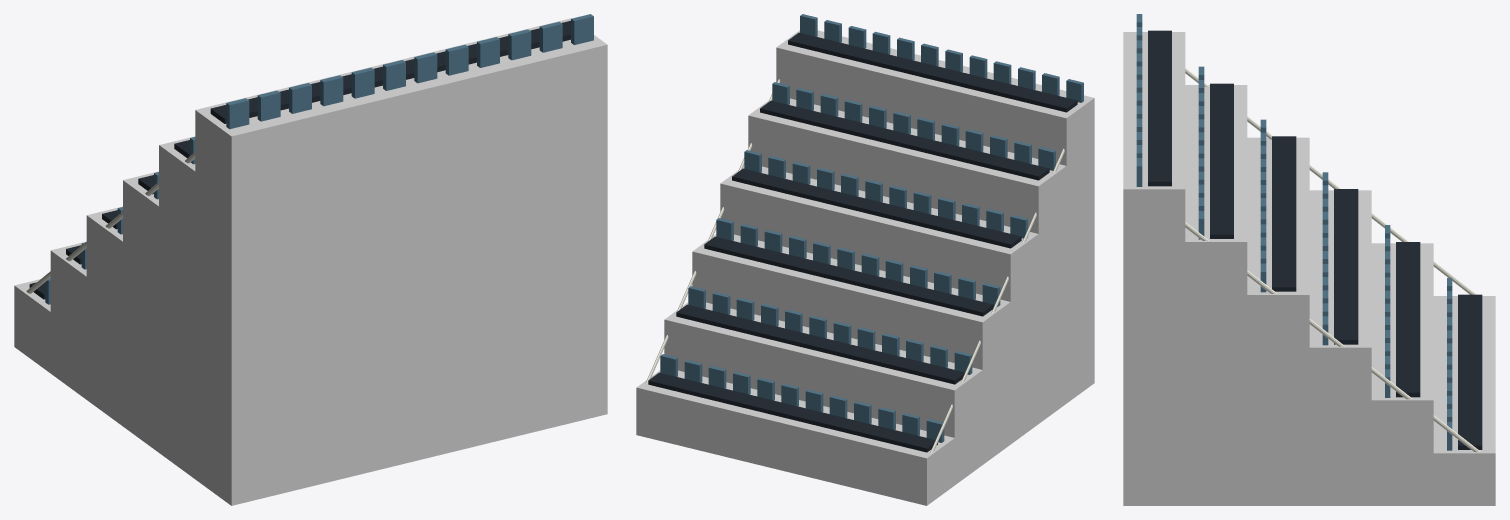
File: stands.glb
The picture shows the model from 3 angles, left to right: view 1: azimuth 30°, elevation 25°; view 2: azimuth 150°, elevation 25°; view 3: azimuth 270°, elevation 25°; orthographic projection. The views are drawn at different scales.
Visible parts, largest first — view 1: beret/bleachers; view 2: beret/bleachers; view 3: beret/bleachers.
Boxes of the visible parts, x1,y1,x2,y2 form: beret/bleachers: [14, 14, 607, 505]; beret/bleachers: [636, 14, 1094, 505]; beret/bleachers: [1123, 14, 1495, 505].
Bounding box in the file's own units: 1 × 1 × 1.
